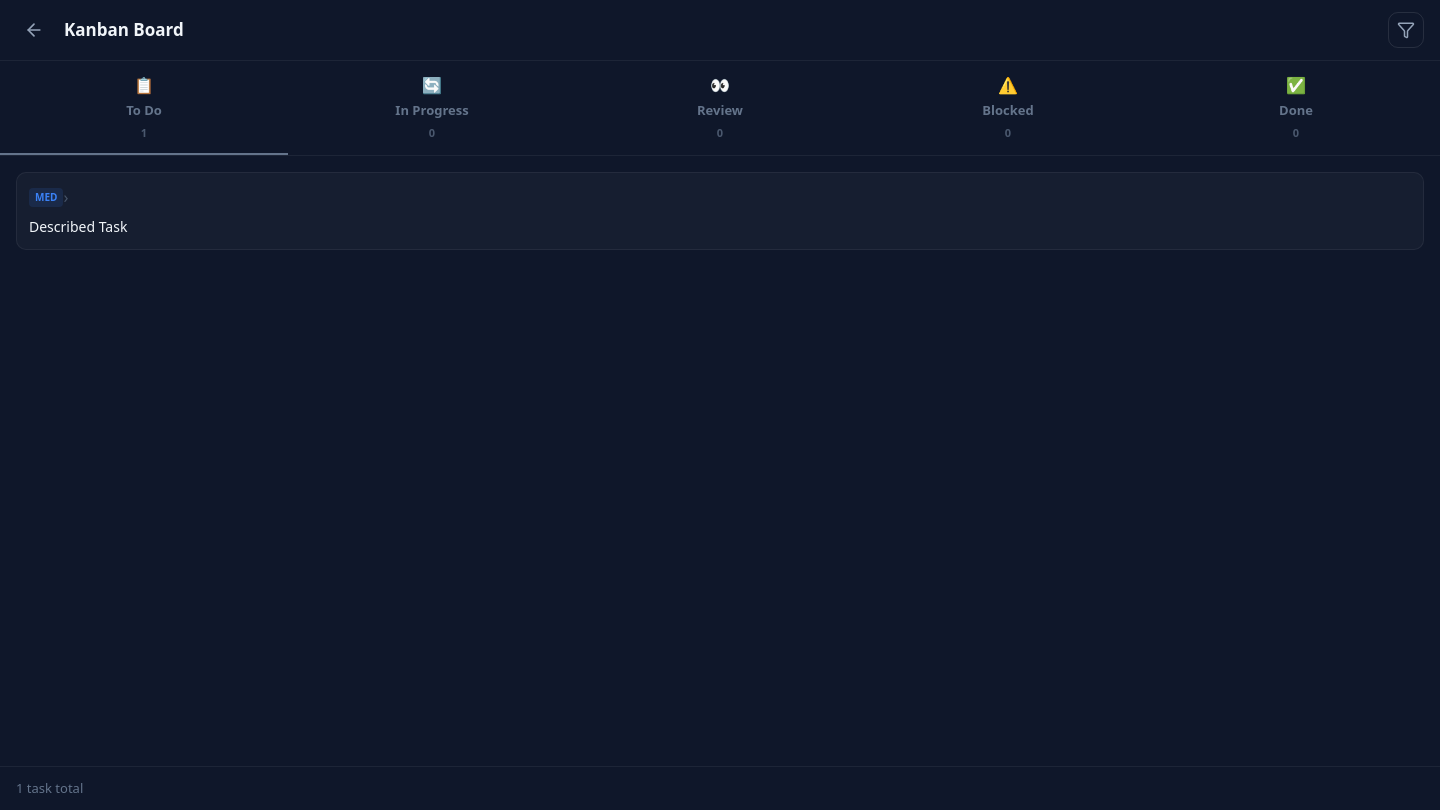
Test: MobileKanbanPanel › task detail modal › shows task description in detail modal
Click the button "MED › Described Task". click: {"x": 46, "y": 197}
box: [16, 172, 1424, 250]
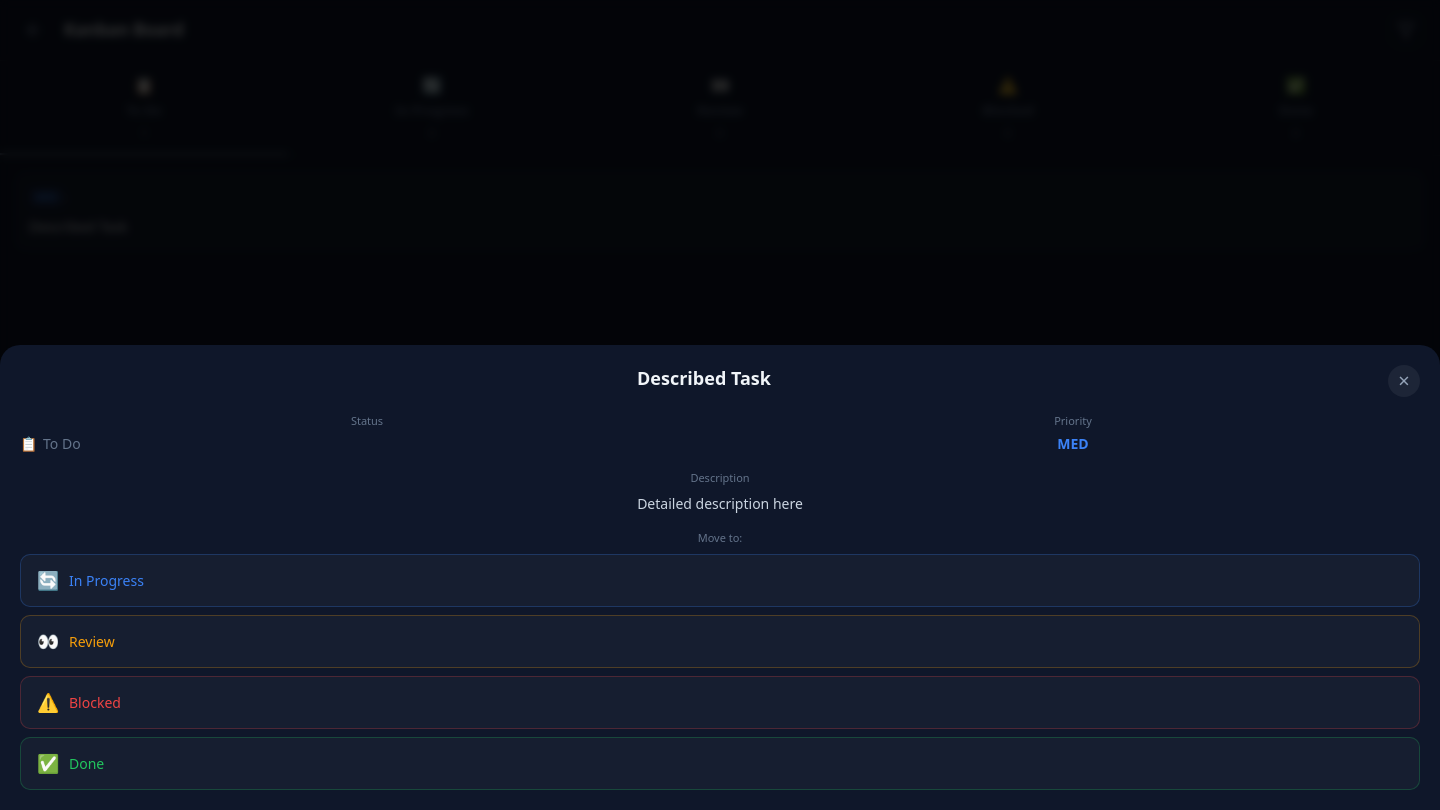
Expected: the text "Detailed description here" is shown, [637, 494, 803, 512]
